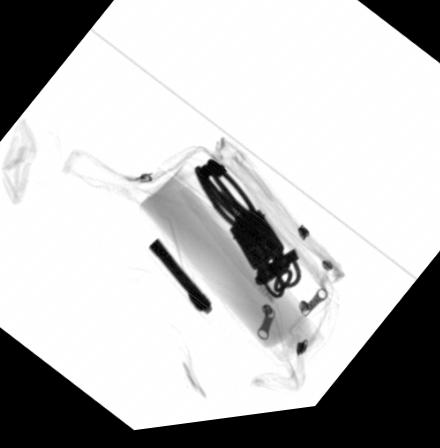Gun: (148, 242, 213, 319)
HandCuffs: (192, 159, 306, 307)
